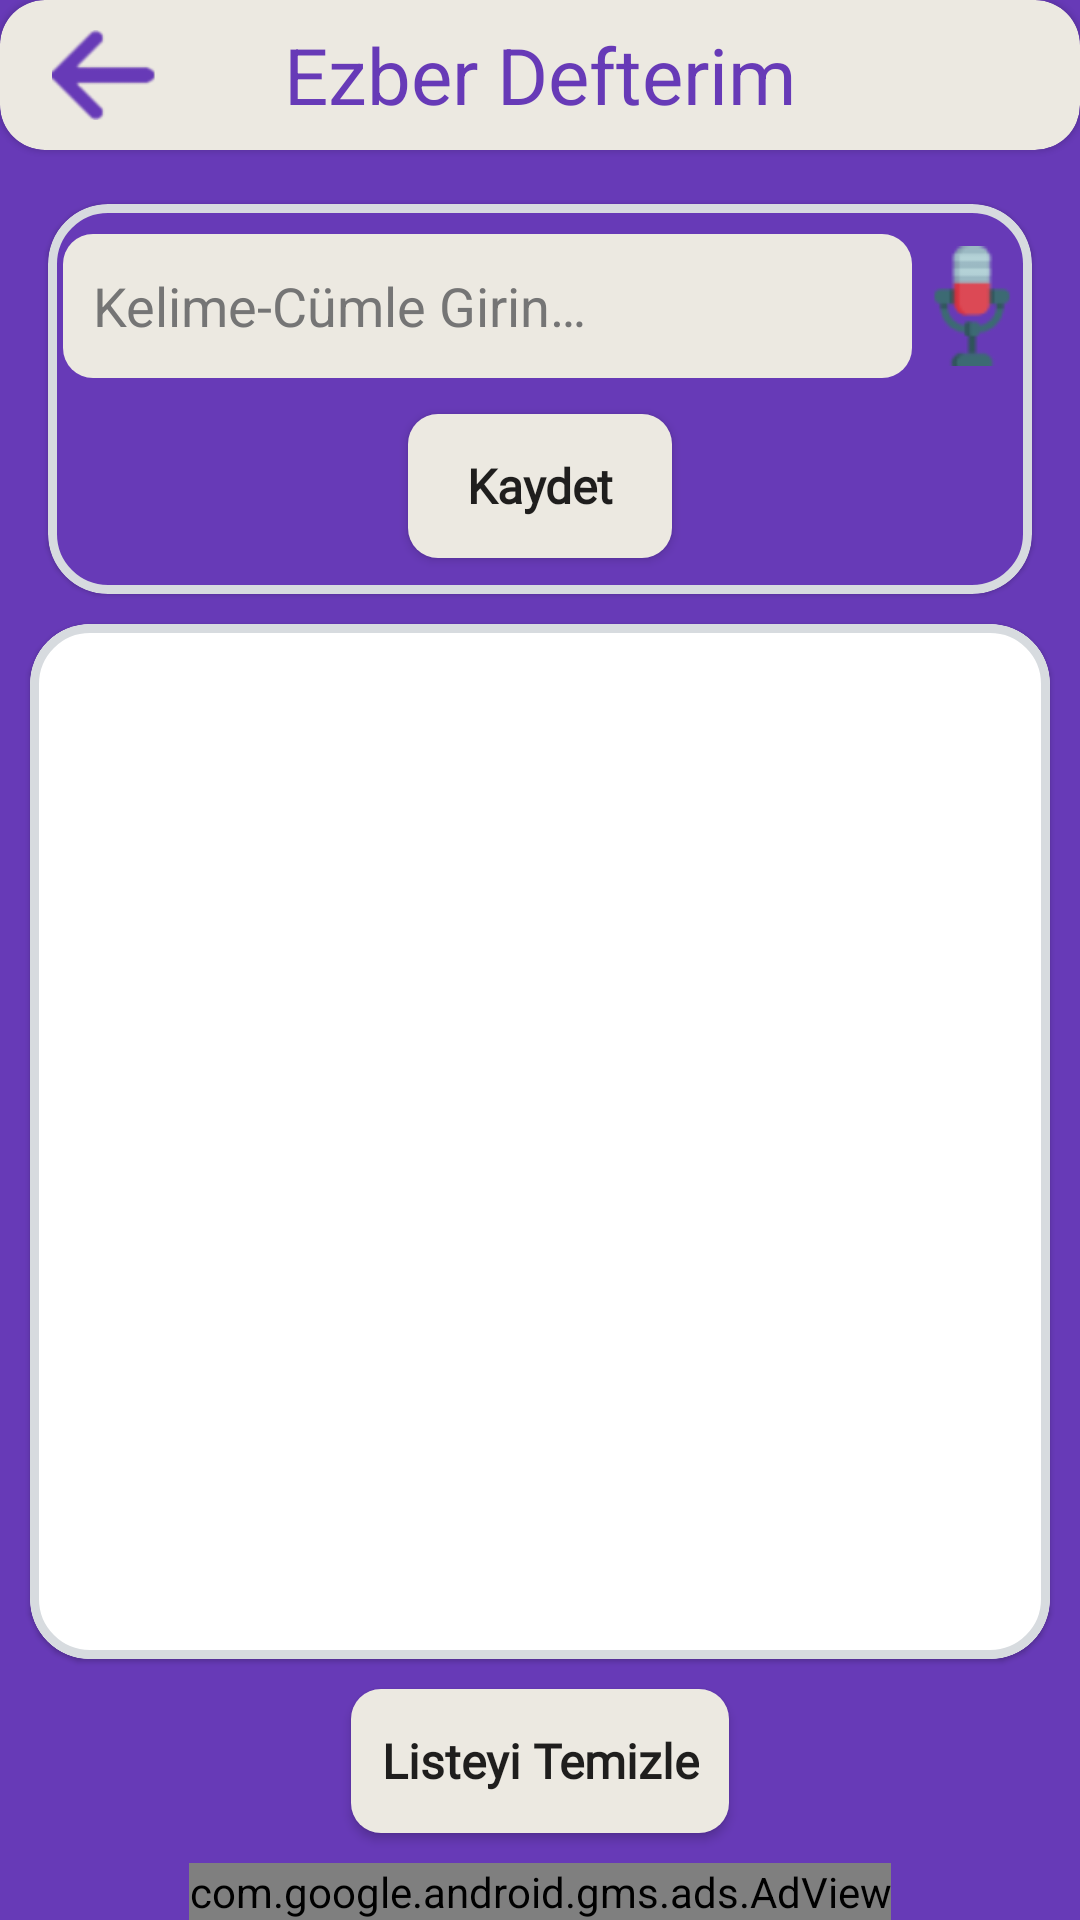

Screen size 1080px x 1920px. Icon name, then its center in pixels as [x,y]:
leftarrow: [103,75]
microphone: [972,306]
